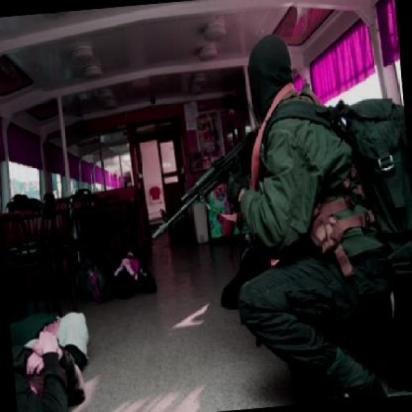Gun: (138, 112, 274, 254)
